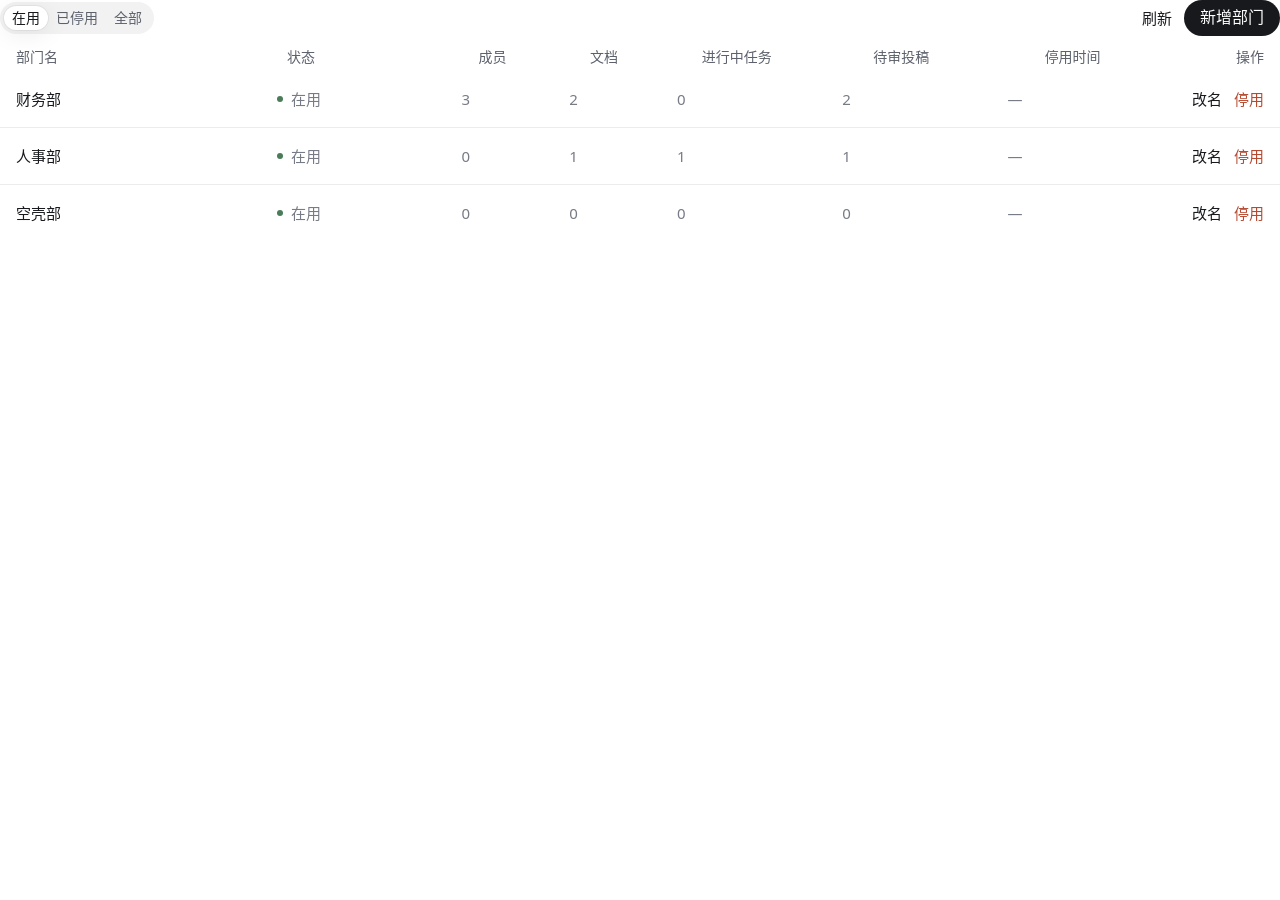
Test case: 新增部门与幂等键语义 › 网络结果未知：同键同体保留，用户显式重试复用同一键
Expected: the text "财务部" is shown, [16,89,61,109]
Step 1. Click the button "新增部门" → (1232, 18), box [1184,0,1279,36]
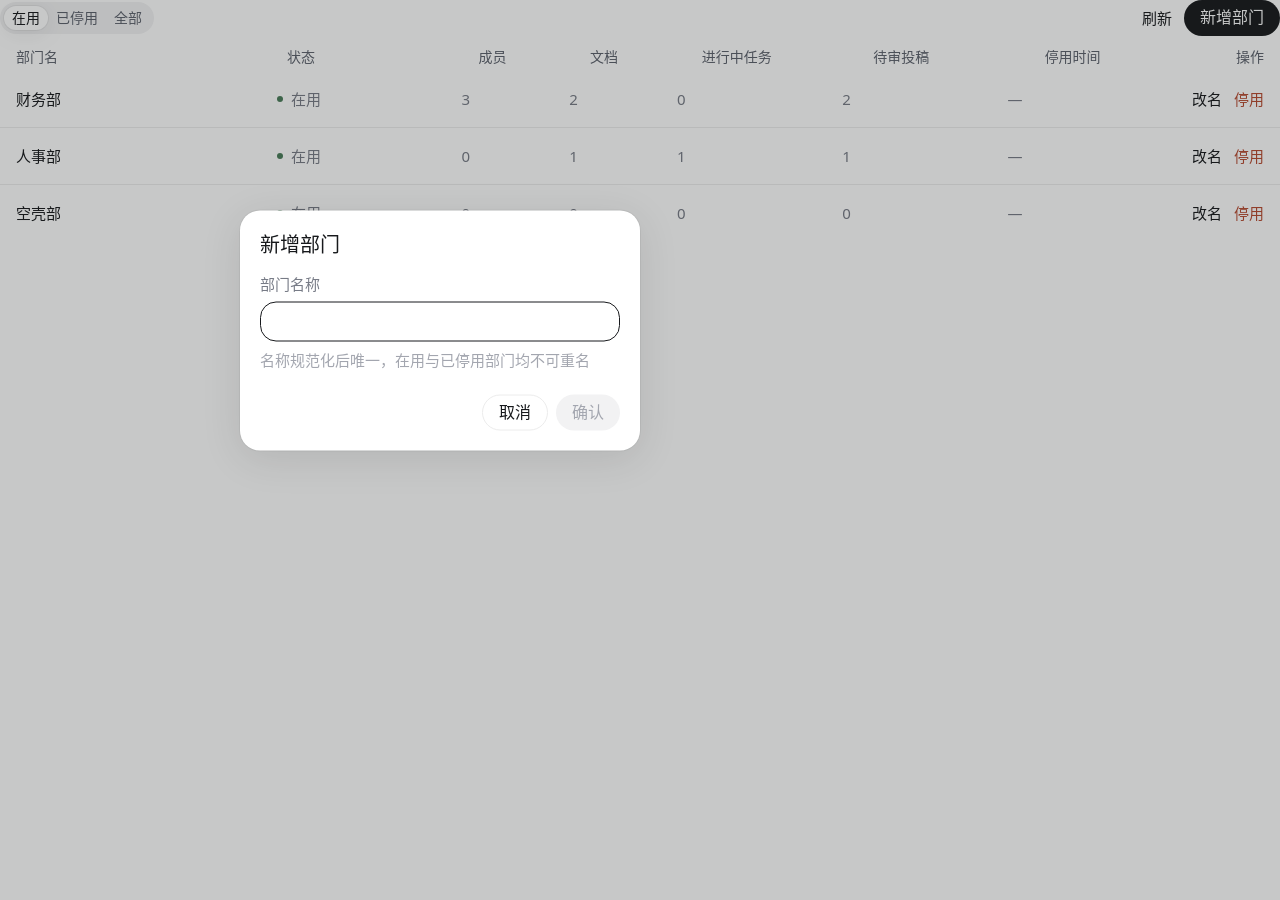
Step 2. Type "战略二部" into the field labelled "部门名称" → (440, 322), box [260,302,620,342]
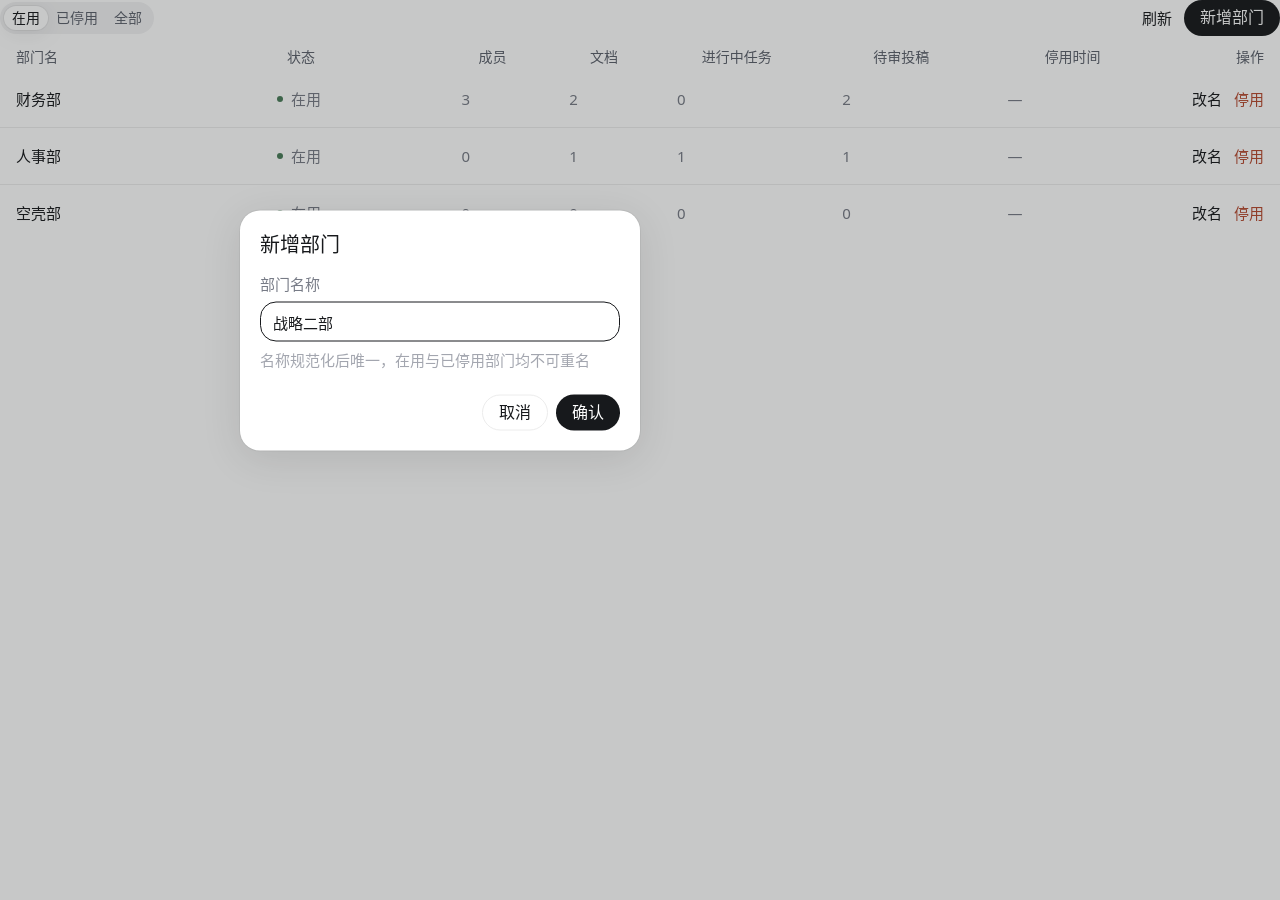
Step 3. Click the button "确认" → (588, 412), box [556,394,620,430]
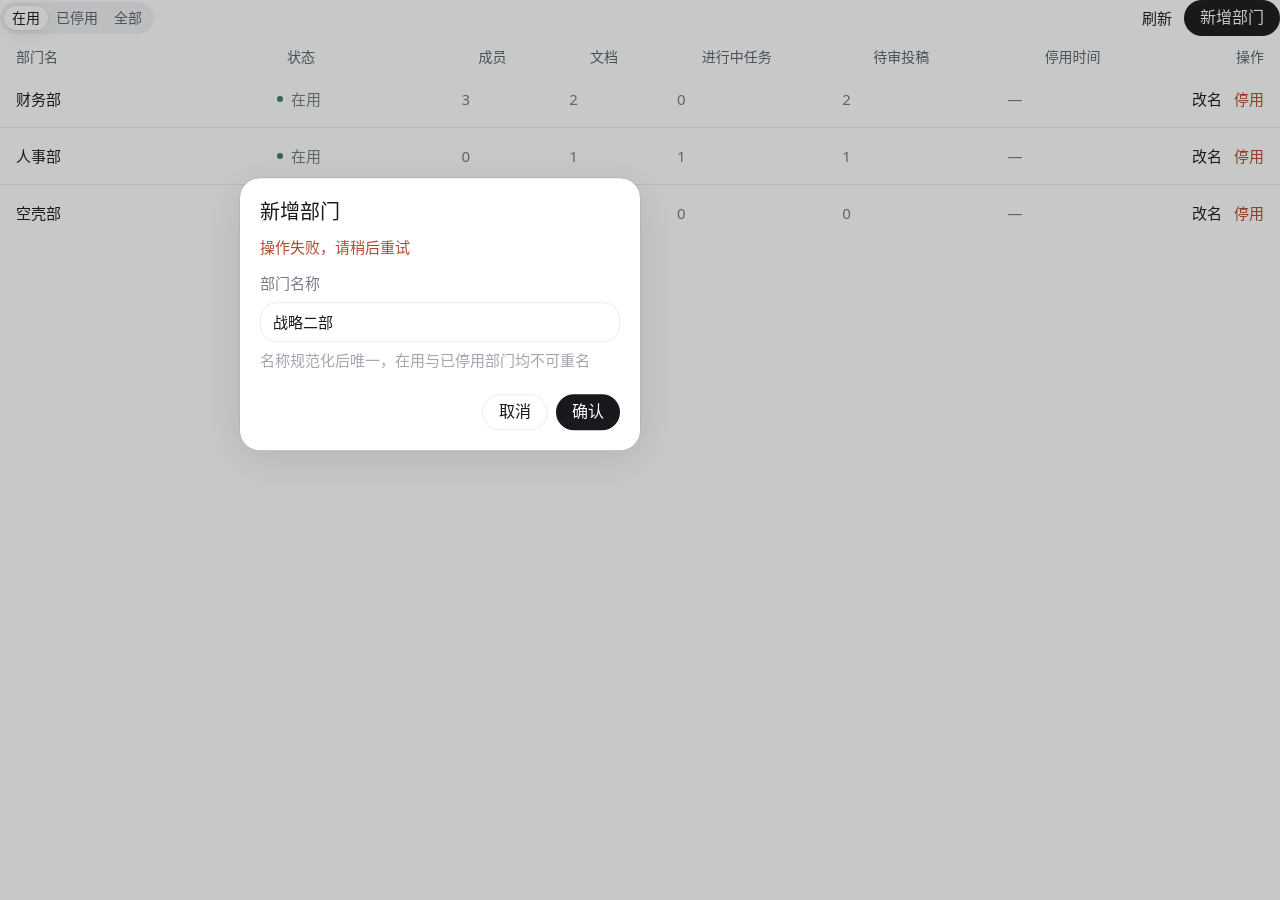
Expected: the dialog is shown
Expected: the text "操作失败，请稍后重试" is shown, [260,237,410,257]
Step 4. Click the button "确认" → (588, 412), box [556,394,620,430]
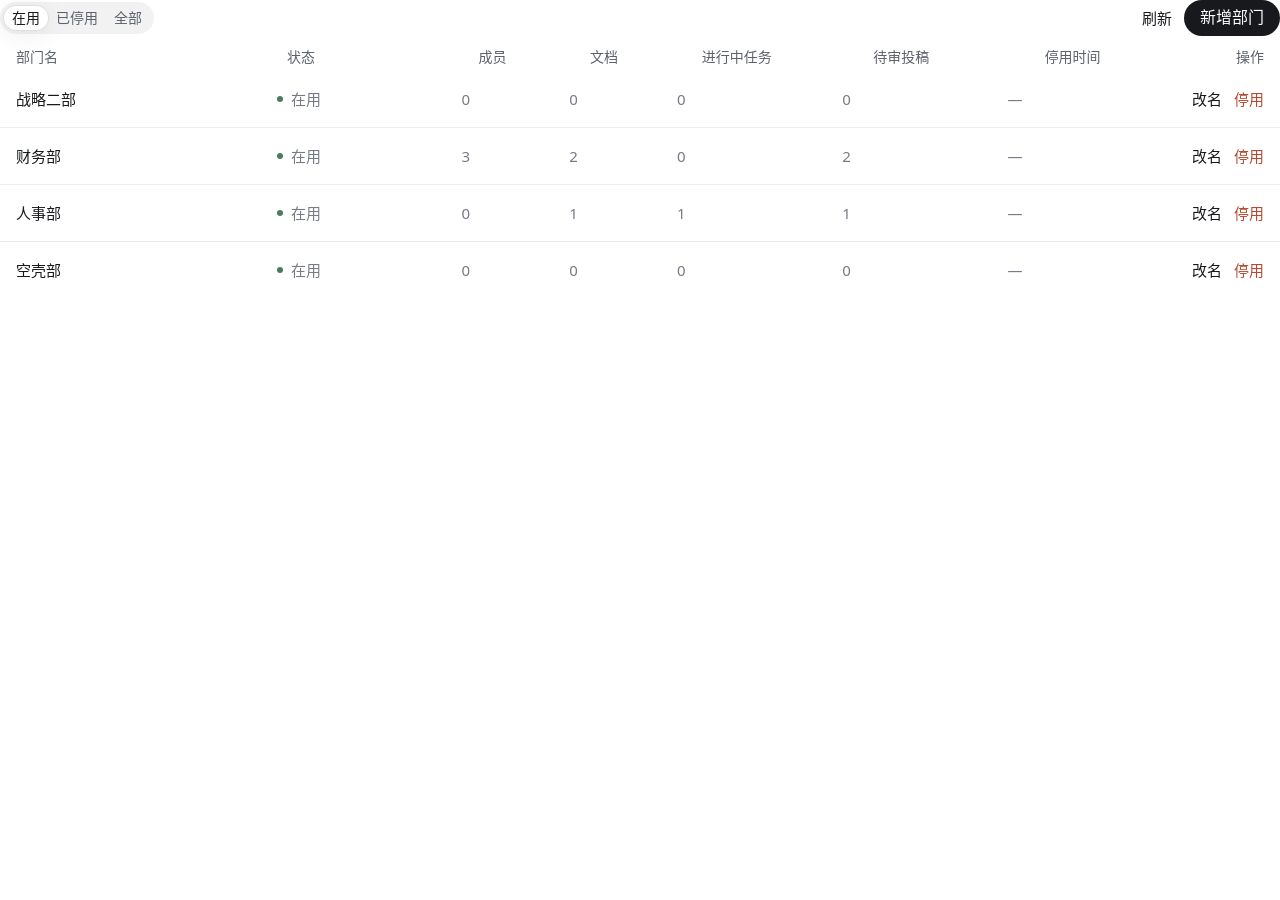
Expected: the dialog is gone
Expected: the text "战略二部" is shown, [16,89,76,109]
